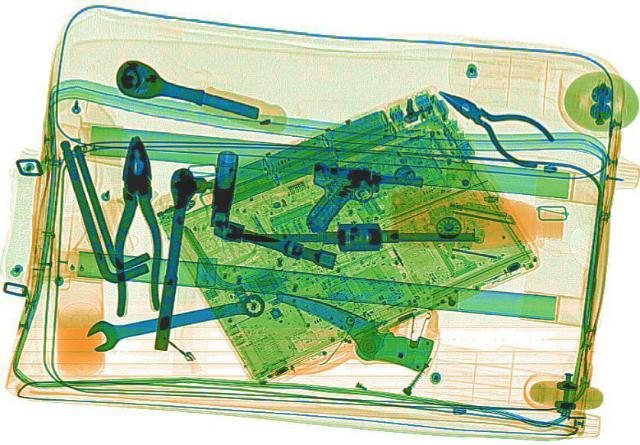Gun: (293, 159, 427, 240)
Pliers: (415, 77, 571, 171), (109, 135, 161, 314)
Wrench: (80, 288, 270, 351)
